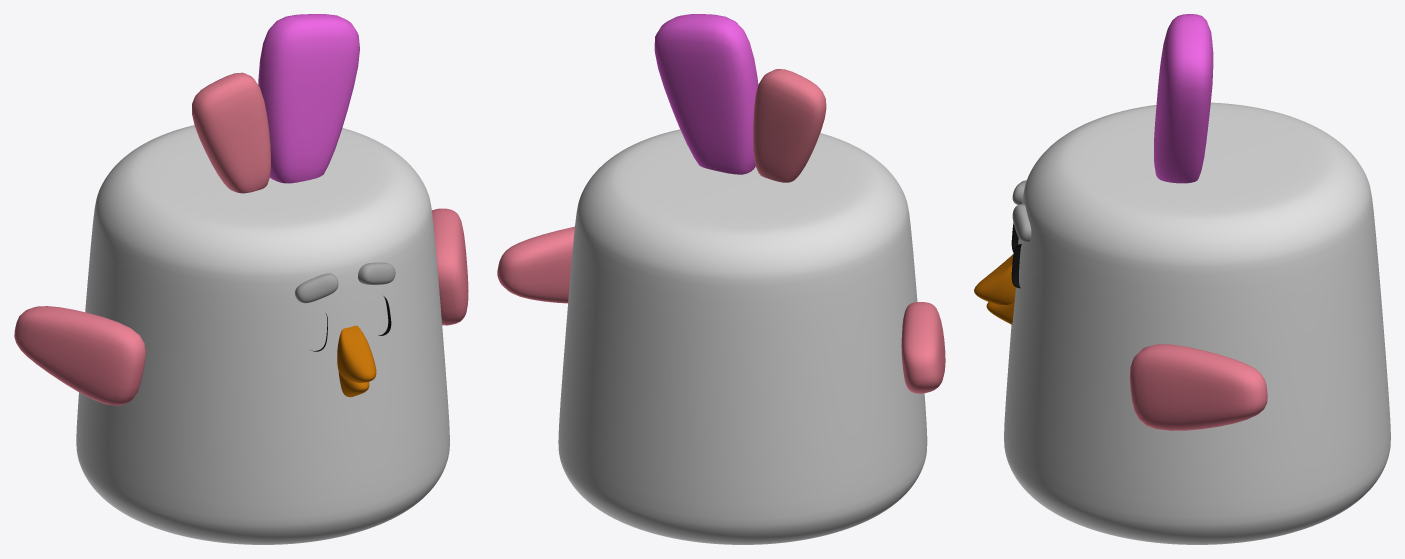
File: marshmallko.glb
The picture shows the model from 3 angles, left to right: view 1: azimuth 30°, elevation 25°; view 2: azimuth 150°, elevation 25°; view 3: azimuth 270°, elevation 25°; orthographic projection. The views are drawn at different scales.
Visible parts, largest first — view 1: head, comb, wing, beak, eyebrow; view 2: head, comb, wing; view 3: head, wing, comb, beak, eyebrow.
Part boxes in pixels (x1,y1,x2,y2): head: (76, 125, 449, 544); comb: (192, 14, 359, 193); wing: (14, 208, 468, 405); beak: (337, 325, 376, 397); eyebrow: (295, 262, 395, 303); head: (558, 129, 927, 544); comb: (654, 14, 826, 182); wing: (497, 226, 945, 393); head: (1004, 102, 1390, 544); wing: (1130, 344, 1267, 430); comb: (1154, 14, 1213, 183); beak: (974, 254, 1015, 324); eyebrow: (1012, 180, 1031, 242).
Size of the model in its own units: 1.92 by 1.9 by 1.51.
